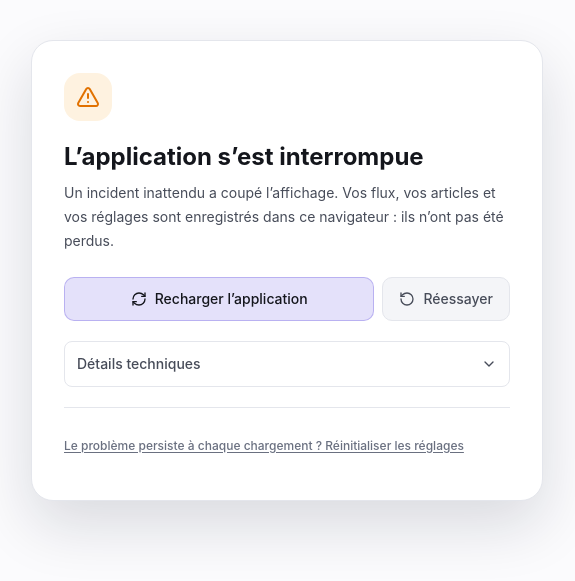
Test: AppErrorBoundary › asks for confirmation before wiping settings
The width and height of the screenshot is (575, 581).
Expected: the button "Confirmer la réinitialisation" is not shown
Click the button "Réinitialiser les réglages". click: (264, 446)
box: [64,424,464,468]
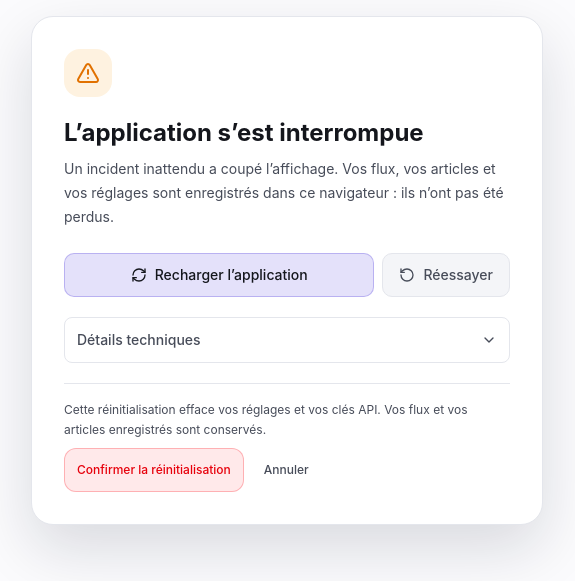
Expected: the button "Confirmer la réinitialisation" is shown, [64,448,244,492]
